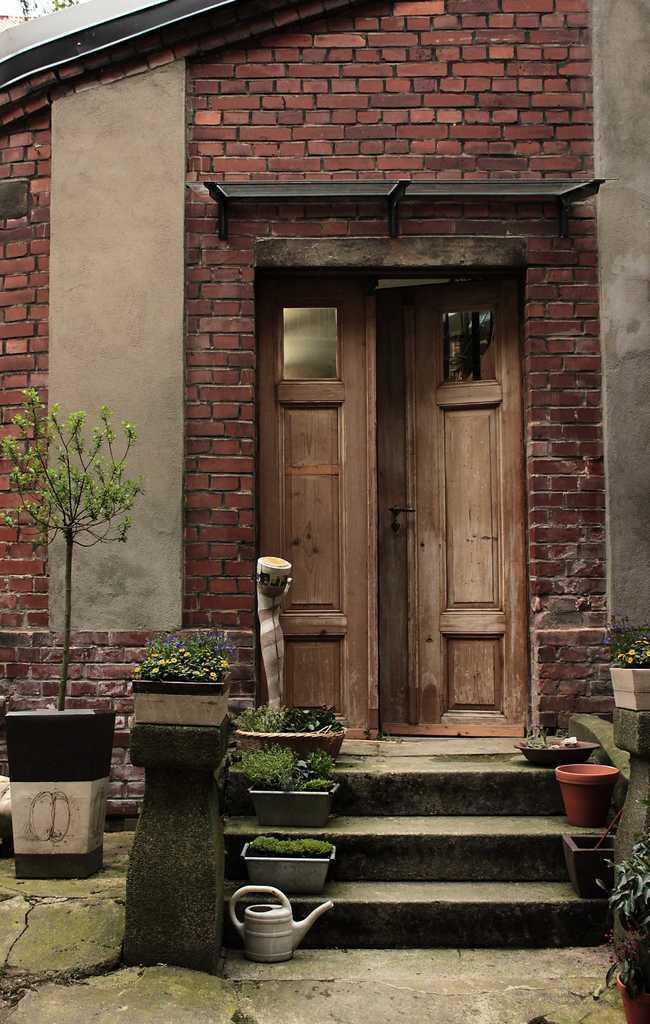door: (378, 313, 522, 725), (269, 303, 367, 720)
handle: (389, 495, 416, 529)
